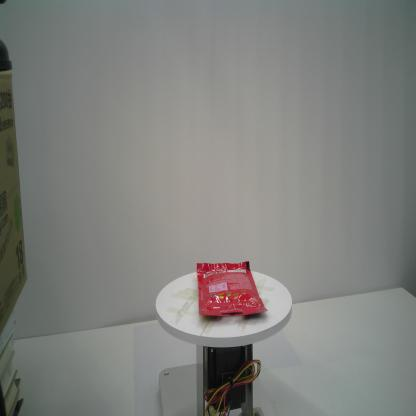Candy: (195, 260, 268, 320)
